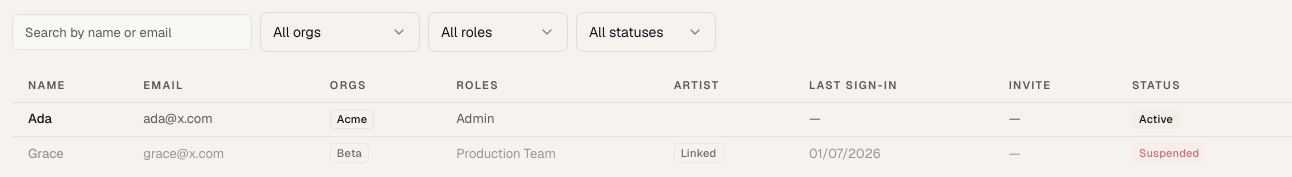
UsersTab › filters by email too
This screenshot has width=1292, height=177.
Type "ada@x.com" into the field with placeholder "Search by name or email" at (132, 32), box [12,14,252,50]
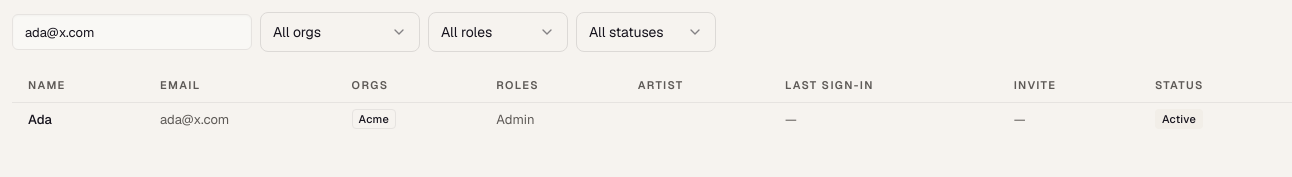
Check: the text "Ada" is shown, box [12,102,144,136]
Check: the text "Grace" is gone
